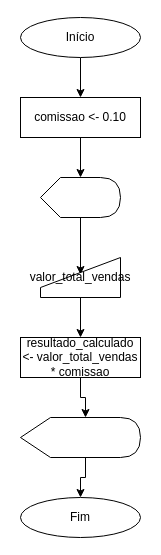
Some shapes in this 161 by 555 pixel diagram are drawn without their labels. Here are the shapes that lost their labels. From the top down, the centre of each, then its label:
At [80,197]: "Qual foi o total de vendas?".
At [80,437]: "Sua comissao e de: resultado_calculado".
